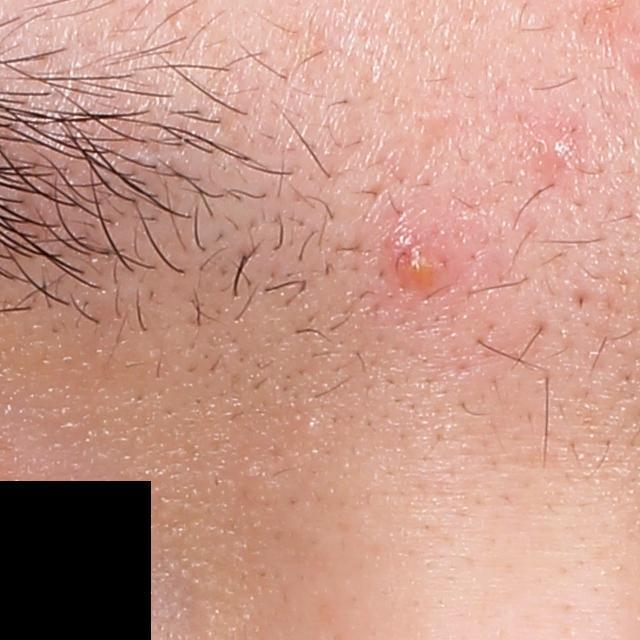papule: (382, 229, 445, 292), (540, 121, 589, 179)
